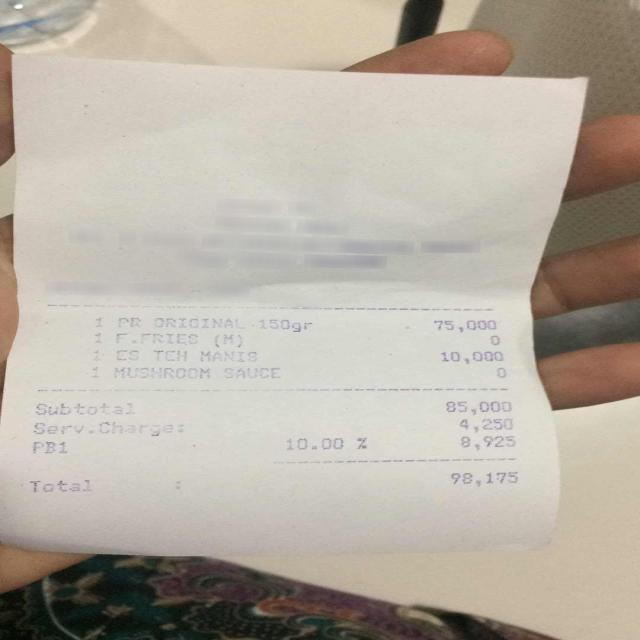kertas: (0, 54, 585, 574)
